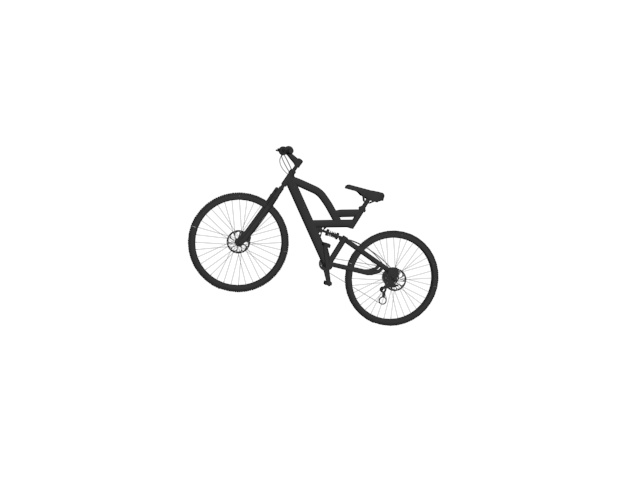bike: (185, 145, 440, 328)
